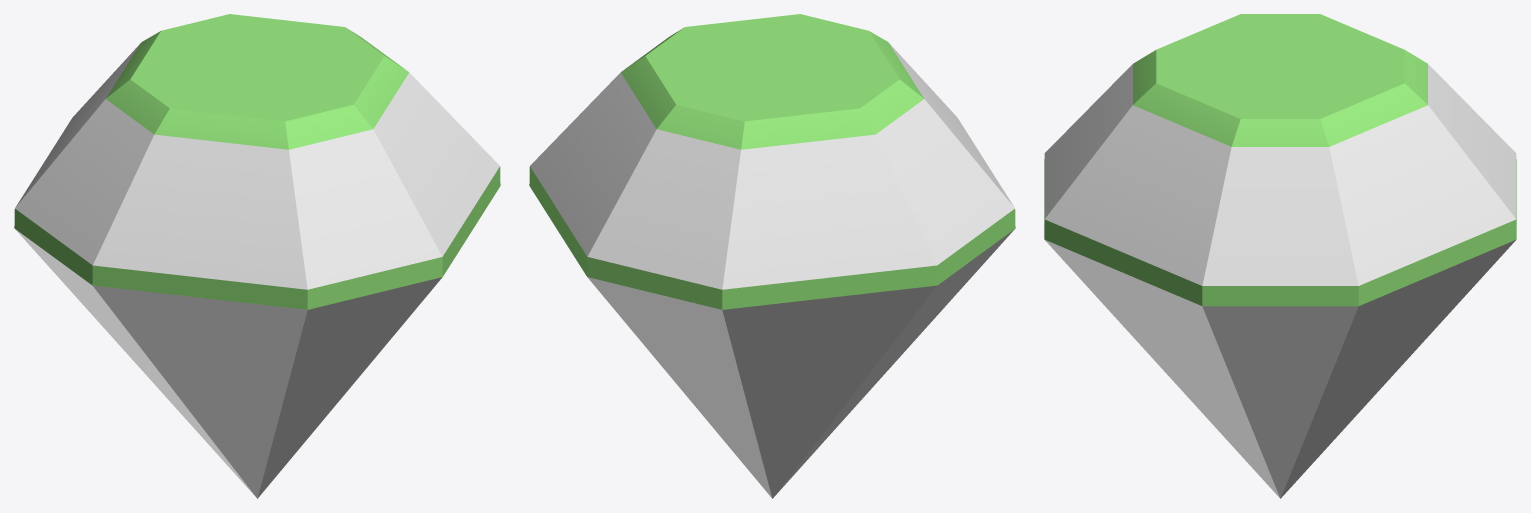
File: Gem2.glb
3 views of the same model, side by side, from view 1: azimuth 30°, elevation 25°; view 2: azimuth 150°, elevation 25°; view 3: azimuth 270°, elevation 25° (orthographic).
Parts seen in each view (by area): view 1: Gem2; view 2: Gem2; view 3: Gem2.
Boxes of the visible parts, x1,y1,x2,y2 form: Gem2: [14, 14, 500, 498]; Gem2: [529, 14, 1015, 498]; Gem2: [1044, 14, 1516, 498].
Size of the model in its own units: 1.5 by 1.51 by 1.5.
